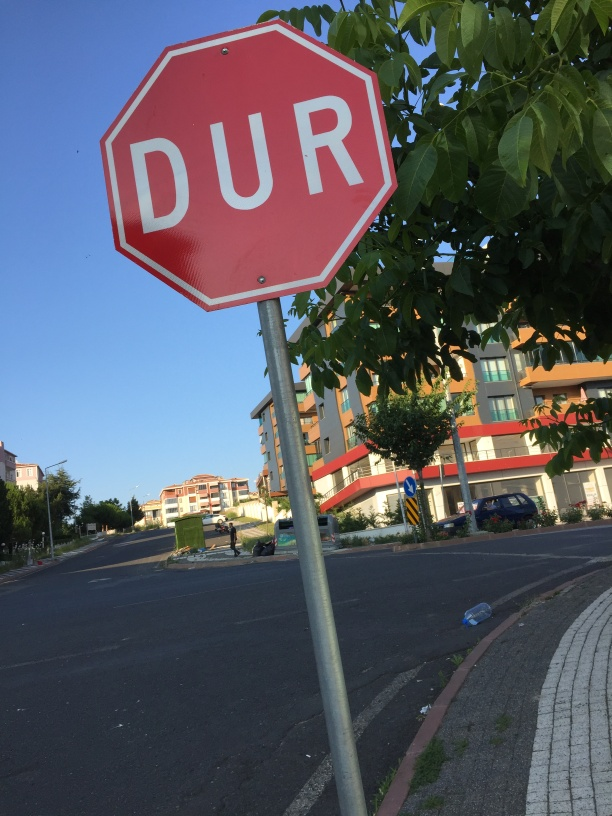arac_dur_isareti: (92, 42, 416, 560)
